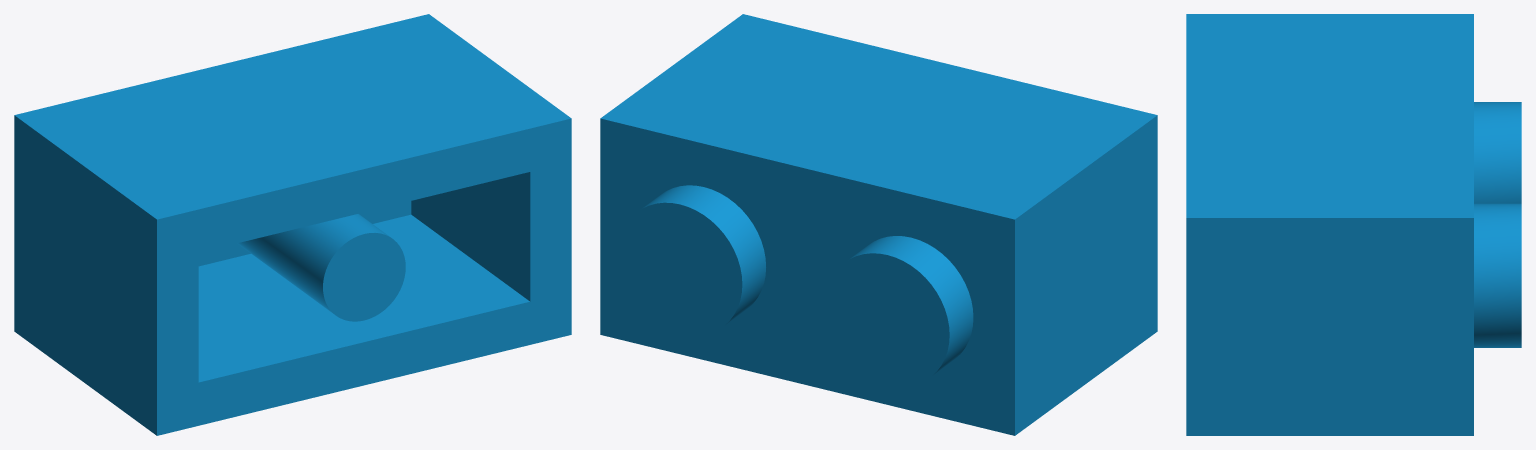
File: lago 2 oscuro.dae
The picture shows the model from 3 angles, left to right: view 1: azimuth 30°, elevation 25°; view 2: azimuth 150°, elevation 25°; view 3: azimuth 270°, elevation 25°; orthographic projection.
Visible parts, largest first — view 1: Inner-Node-UntitledModel_dot_io-0; view 2: Inner-Node-UntitledModel_dot_io-0; view 3: Inner-Node-UntitledModel_dot_io-0.
Part boxes in pixels (box(x1,y1,x2,y2)): Inner-Node-UntitledModel_dot_io-0: box(14, 14, 571, 435); Inner-Node-UntitledModel_dot_io-0: box(600, 14, 1157, 435); Inner-Node-UntitledModel_dot_io-0: box(1186, 14, 1521, 435).
Size of the model in its own units: 39.75 by 19.82 by 27.65.
